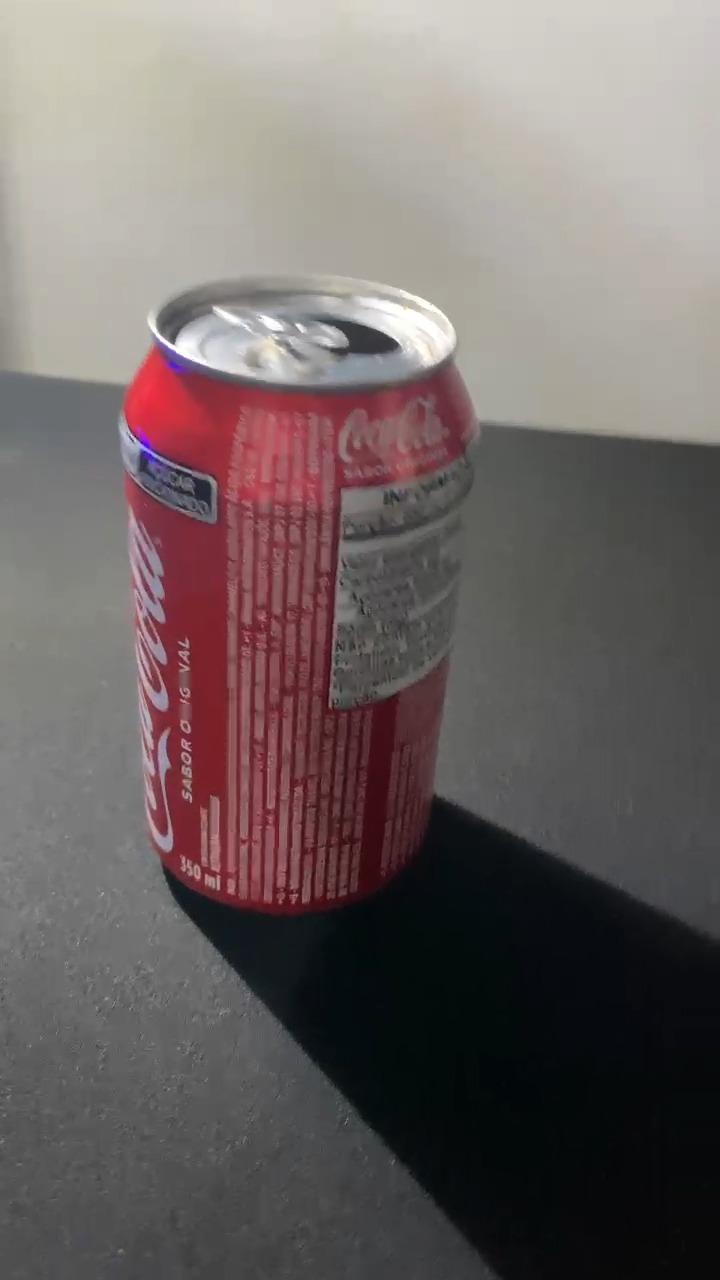coke: (121, 277, 478, 915)
